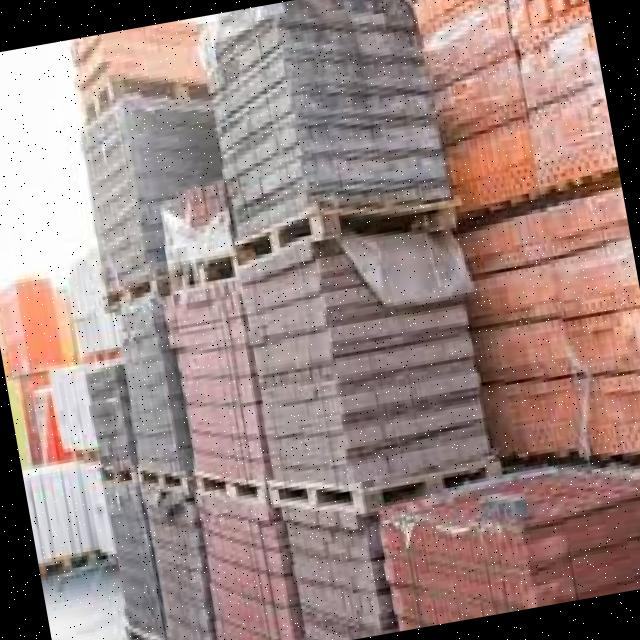Wooden-Pallets: (228, 199, 333, 271), (267, 472, 366, 524), (123, 453, 189, 512), (197, 464, 271, 511)
